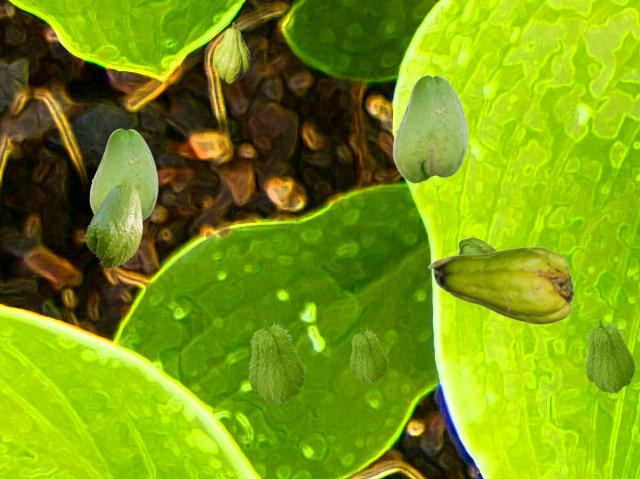sayote: (427, 246, 572, 324), (392, 74, 467, 182), (89, 128, 157, 221), (84, 184, 142, 268), (247, 319, 305, 403), (584, 318, 635, 392), (213, 22, 250, 82), (349, 327, 387, 382), (457, 237, 497, 253)
